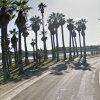Palm tree: (6, 3, 90, 60)
